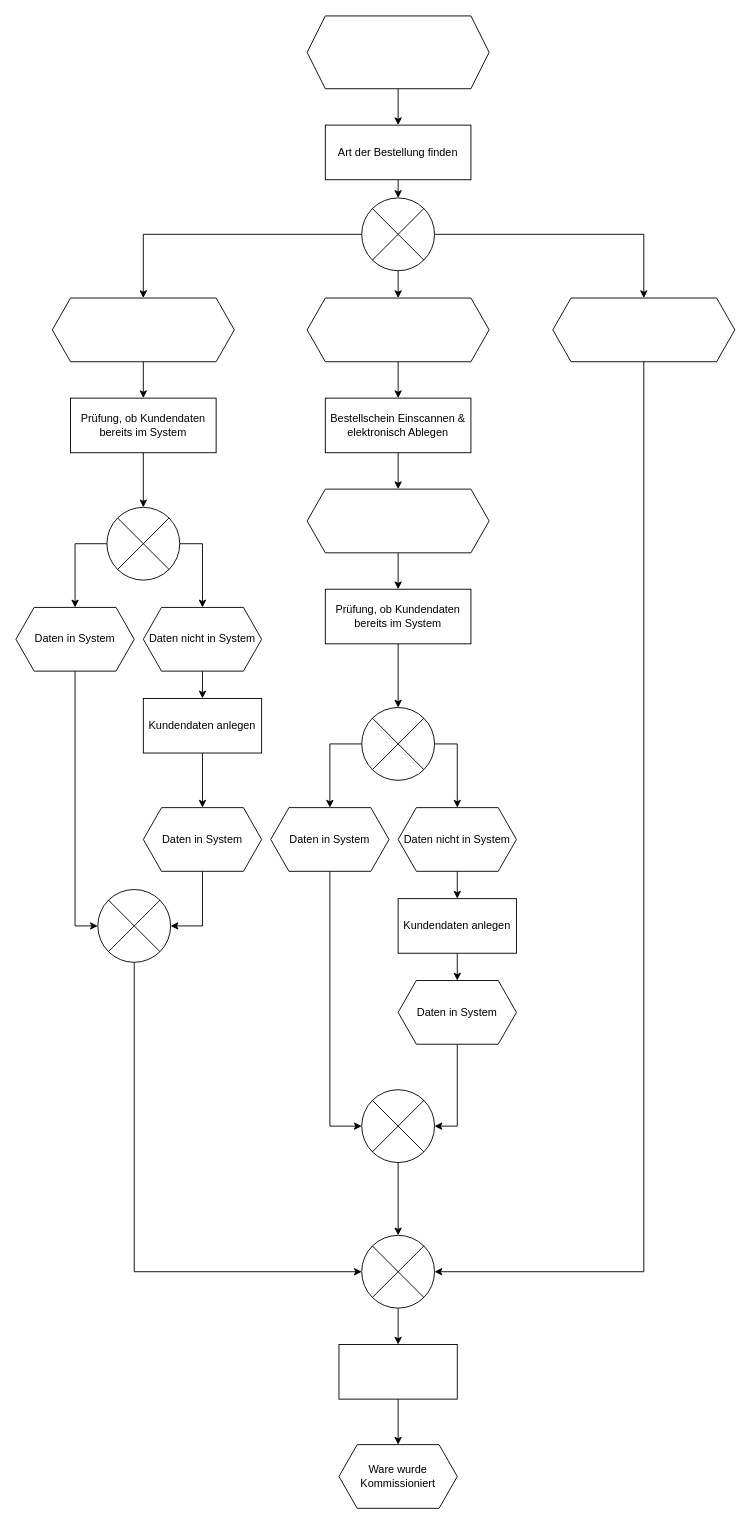
Some shapes in this 751 by 1524 pixel diagram are drawn without their labels. Each missing label, with the centre of its shape:
"abgeschlossen" belongs at pixel 397 520.
"Bestellung eingegangen" belongs at pixel 397 52.
"elektronische Bestellung" belongs at pixel 643 329.
"schriftliche Bestellung" belongs at pixel 397 329.
"Telefonbestellung" belongs at pixel 142 329.
"Ware wird kommissioniert" belongs at pixel 397 1371.
